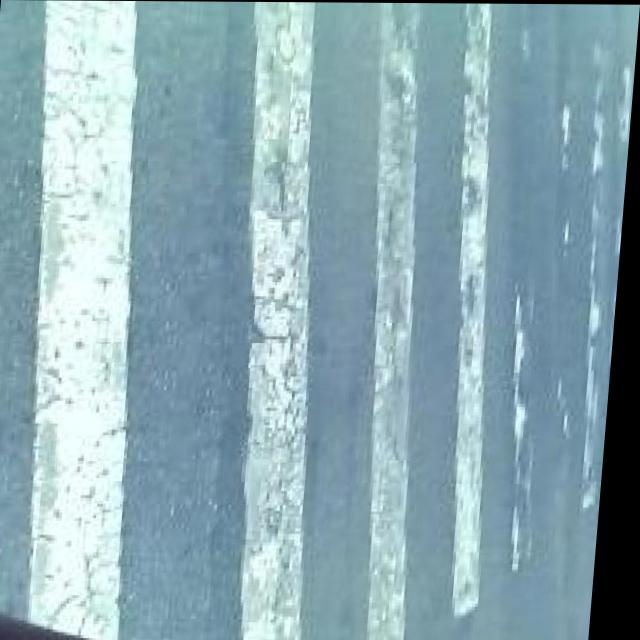zebra: (18, 49, 615, 581)
